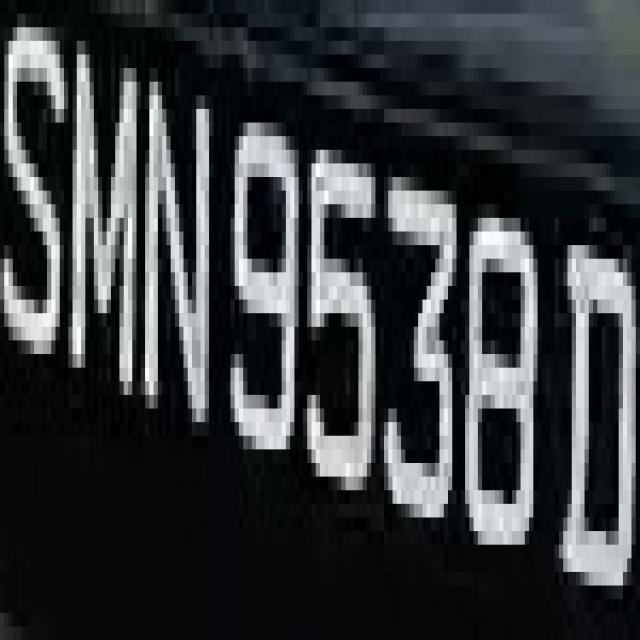3: (379, 123, 456, 558)
5: (303, 95, 363, 408)
8: (460, 136, 538, 572)
9: (222, 68, 307, 463)
D: (554, 177, 632, 613)
M: (64, 14, 137, 381)
N: (145, 54, 226, 450)
S: (0, 0, 68, 422)
